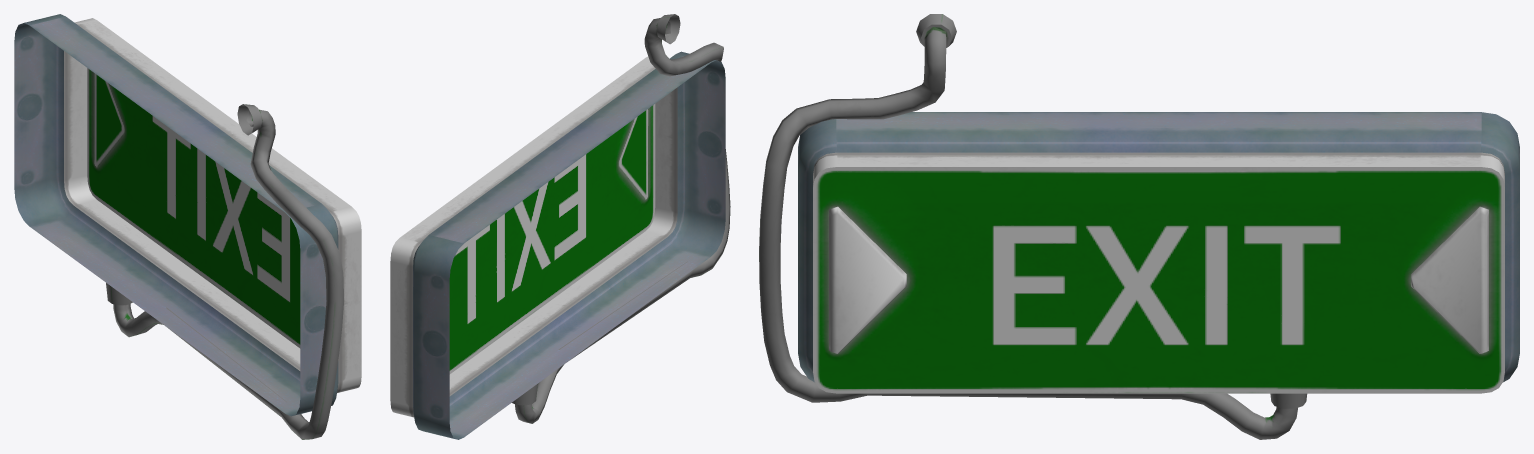
File: SM_Exit_02.FBX
3 views of the same model, side by side, from view 1: azimuth 30°, elevation 25°; view 2: azimuth 150°, elevation 25°; view 3: azimuth 270°, elevation 25° (orthographic). The views are drawn at different scales.
Parts seen in each view (by area): view 1: SM_Exit_02_LOD0; view 2: SM_Exit_02_LOD0; view 3: SM_Exit_02_LOD0.
Boxes of the visible parts, x1=… form: SM_Exit_02_LOD0: x1=14, y1=14, x2=361, y2=439; SM_Exit_02_LOD0: x1=390, y1=14, x2=730, y2=439; SM_Exit_02_LOD0: x1=759, y1=14, x2=1519, y2=439.
Size of the model in its own units: 7.11 by 51.04 by 30.61.
